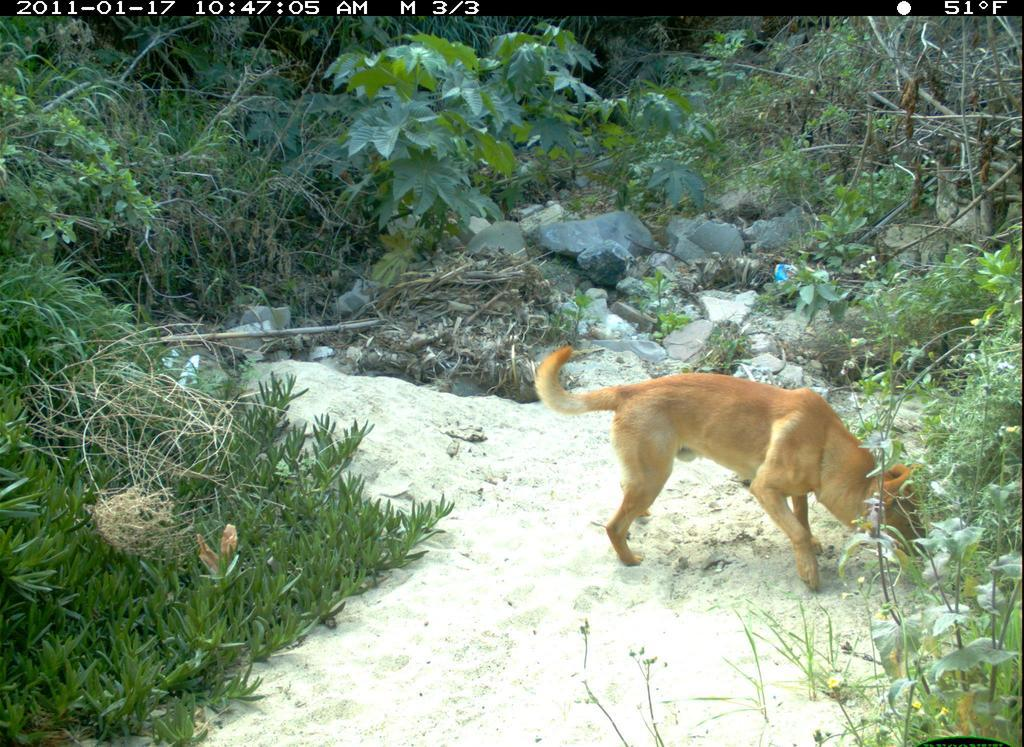dog: (536, 344, 952, 602)
